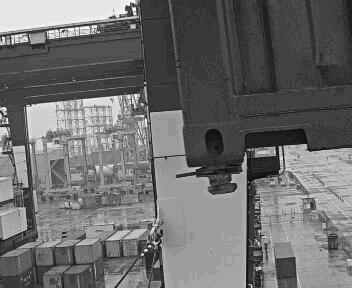twist_lock_1: (187, 158, 249, 205)
